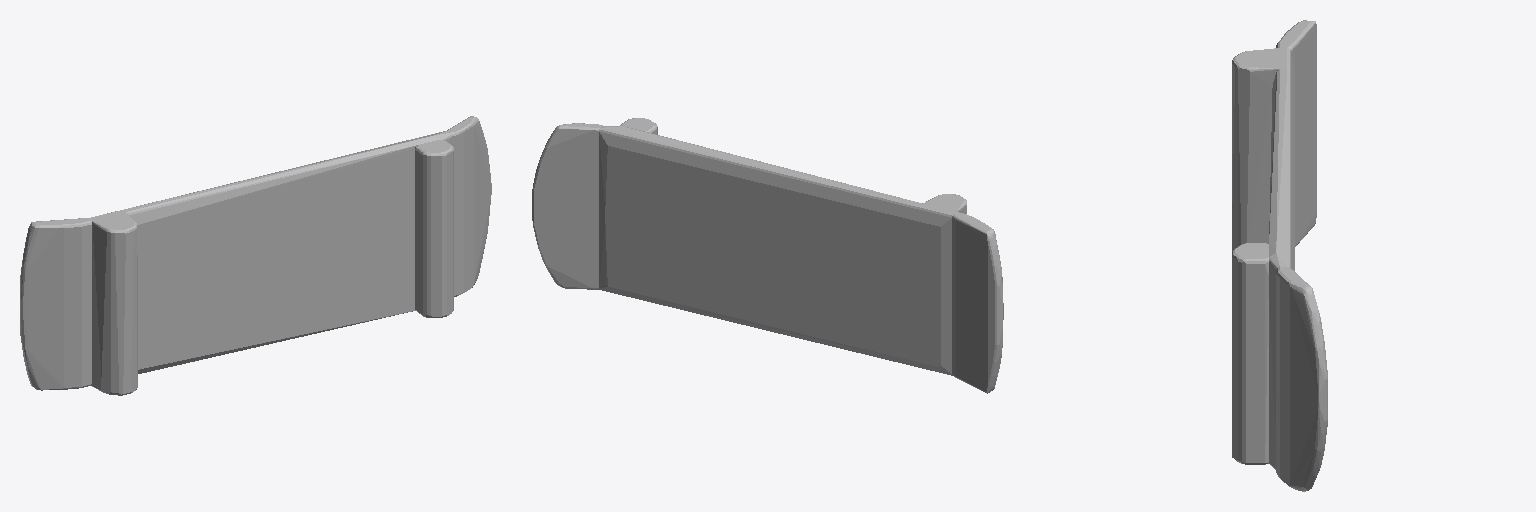
The robot description file, URDF, robot "root":
<robot name="root">
  <link name="link_coacd_convex_piece_0">
    <inertial>
      <origin xyz="0 0 0" rpy="0 0 0"/>
      <inertia ixx="1.07E-03" ixy="-7.72E-06" ixz="-1.21E-05" iyy="4.78E-03" iyz="-1.19E-06" izz="5.83E-03"/>
    </inertial>
    <visual>
      <origin xyz="0 0 0" rpy="0 0 0"/>
      <geometry>
        <mesh filename="coacd_convex_piece_0.obj" scale="1.0000E+00 1.0000E+00 1.0000E+00"/>
      </geometry>
      <material name="">
        <color rgba="7.50E-01 7.50E-01 7.50E-01 1"/>
      </material>
    </visual>
    <collision>
      <origin xyz="0 0 0" rpy="0 0 0"/>
      <geometry>
        <mesh filename="coacd_convex_piece_0.obj" scale="1.0000E+00 1.0000E+00 1.0000E+00"/>
      </geometry>
    </collision>
  </link>
  <link name="link_coacd_convex_piece_1">
    <inertial>
      <origin xyz="0 0 0" rpy="0 0 0"/>
      <inertia ixx="1.24E-04" ixy="-1.06E-05" ixz="-1.66E-04" iyy="2.53E-03" iyz="-3.47E-07" izz="2.62E-03"/>
    </inertial>
    <visual>
      <origin xyz="0 0 0" rpy="0 0 0"/>
      <geometry>
        <mesh filename="coacd_convex_piece_1.obj" scale="1.0000E+00 1.0000E+00 1.0000E+00"/>
      </geometry>
      <material name="">
        <color rgba="7.50E-01 7.50E-01 7.50E-01 1"/>
      </material>
    </visual>
    <collision>
      <origin xyz="0 0 0" rpy="0 0 0"/>
      <geometry>
        <mesh filename="coacd_convex_piece_1.obj" scale="1.0000E+00 1.0000E+00 1.0000E+00"/>
      </geometry>
    </collision>
  </link>
  <joint name="link_coacd_convex_piece_1_joint" type="fixed">
    <origin xyz="0 0 0" rpy="0 0 0"/>
    <parent link="link_coacd_convex_piece_0"/>
    <child link="link_coacd_convex_piece_1"/>
  </joint>
  <link name="link_coacd_convex_piece_2">
    <inertial>
      <origin xyz="0 0 0" rpy="0 0 0"/>
      <inertia ixx="1.57E-04" ixy="1.67E-05" ixz="1.74E-04" iyy="3.14E-03" iyz="-6.96E-07" izz="3.28E-03"/>
    </inertial>
    <visual>
      <origin xyz="0 0 0" rpy="0 0 0"/>
      <geometry>
        <mesh filename="coacd_convex_piece_2.obj" scale="1.0000E+00 1.0000E+00 1.0000E+00"/>
      </geometry>
      <material name="">
        <color rgba="7.50E-01 7.50E-01 7.50E-01 1"/>
      </material>
    </visual>
    <collision>
      <origin xyz="0 0 0" rpy="0 0 0"/>
      <geometry>
        <mesh filename="coacd_convex_piece_2.obj" scale="1.0000E+00 1.0000E+00 1.0000E+00"/>
      </geometry>
    </collision>
  </link>
  <joint name="link_coacd_convex_piece_2_joint" type="fixed">
    <origin xyz="0 0 0" rpy="0 0 0"/>
    <parent link="link_coacd_convex_piece_1"/>
    <child link="link_coacd_convex_piece_2"/>
  </joint>
  <link name="link_coacd_convex_piece_3">
    <inertial>
      <origin xyz="0 0 0" rpy="0 0 0"/>
      <inertia ixx="2.98E-04" ixy="3.69E-05" ixz="-2.14E-04" iyy="3.43E-03" iyz="3.01E-06" izz="3.67E-03"/>
    </inertial>
    <visual>
      <origin xyz="0 0 0" rpy="0 0 0"/>
      <geometry>
        <mesh filename="coacd_convex_piece_3.obj" scale="1.0000E+00 1.0000E+00 1.0000E+00"/>
      </geometry>
      <material name="">
        <color rgba="7.50E-01 7.50E-01 7.50E-01 1"/>
      </material>
    </visual>
    <collision>
      <origin xyz="0 0 0" rpy="0 0 0"/>
      <geometry>
        <mesh filename="coacd_convex_piece_3.obj" scale="1.0000E+00 1.0000E+00 1.0000E+00"/>
      </geometry>
    </collision>
  </link>
  <joint name="link_coacd_convex_piece_3_joint" type="fixed">
    <origin xyz="0 0 0" rpy="0 0 0"/>
    <parent link="link_coacd_convex_piece_2"/>
    <child link="link_coacd_convex_piece_3"/>
  </joint>
  <link name="link_coacd_convex_piece_4">
    <inertial>
      <origin xyz="0 0 0" rpy="0 0 0"/>
      <inertia ixx="1.70E-04" ixy="-1.38E-05" ixz="2.05E-04" iyy="1.69E-03" iyz="1.83E-06" izz="1.80E-03"/>
    </inertial>
    <visual>
      <origin xyz="0 0 0" rpy="0 0 0"/>
      <geometry>
        <mesh filename="coacd_convex_piece_4.obj" scale="1.0000E+00 1.0000E+00 1.0000E+00"/>
      </geometry>
      <material name="">
        <color rgba="7.50E-01 7.50E-01 7.50E-01 1"/>
      </material>
    </visual>
    <collision>
      <origin xyz="0 0 0" rpy="0 0 0"/>
      <geometry>
        <mesh filename="coacd_convex_piece_4.obj" scale="1.0000E+00 1.0000E+00 1.0000E+00"/>
      </geometry>
    </collision>
  </link>
  <joint name="link_coacd_convex_piece_4_joint" type="fixed">
    <origin xyz="0 0 0" rpy="0 0 0"/>
    <parent link="link_coacd_convex_piece_3"/>
    <child link="link_coacd_convex_piece_4"/>
  </joint>
</robot>

--- What the picture shows (computed from the rendered views, not written in the file) ---
The picture shows the robot from 3 angles, left to right: view 1: azimuth 30°, elevation 25°; view 2: azimuth 150°, elevation 25°; view 3: azimuth 270°, elevation 25°; orthographic projection.
Model root with 5 links and 4 joints (4 fixed), rooted at link_coacd_convex_piece_0, posed every joint at zero.
Links seen in each view (by area): view 1: link_coacd_convex_piece_0, link_coacd_convex_piece_2, link_coacd_convex_piece_3, link_coacd_convex_piece_4, link_coacd_convex_piece_1; view 2: link_coacd_convex_piece_0, link_coacd_convex_piece_1, link_coacd_convex_piece_2, link_coacd_convex_piece_3; view 3: link_coacd_convex_piece_1, link_coacd_convex_piece_4, link_coacd_convex_piece_3, link_coacd_convex_piece_0, link_coacd_convex_piece_2.
Boxes of the visible links, left/top/right/bottom form: link_coacd_convex_piece_0: left=123, top=131, right=451, bottom=373; link_coacd_convex_piece_2: left=20, top=218, right=91, bottom=390; link_coacd_convex_piece_3: left=88, top=210, right=137, bottom=395; link_coacd_convex_piece_4: left=415, top=140, right=453, bottom=317; link_coacd_convex_piece_1: left=447, top=116, right=491, bottom=296; link_coacd_convex_piece_0: left=599, top=126, right=922, bottom=367; link_coacd_convex_piece_1: left=532, top=123, right=602, bottom=289; link_coacd_convex_piece_2: left=952, top=212, right=1003, bottom=393; link_coacd_convex_piece_3: left=917, top=194, right=966, bottom=375; link_coacd_convex_piece_1: left=1276, top=267, right=1327, bottom=491; link_coacd_convex_piece_4: left=1232, top=243, right=1268, bottom=464; link_coacd_convex_piece_3: left=1232, top=48, right=1294, bottom=251; link_coacd_convex_piece_0: left=1269, top=69, right=1294, bottom=469; link_coacd_convex_piece_2: left=1276, top=20, right=1316, bottom=246.
Size in the robot's own frame: 1.93 by 0.2741 by 0.6535 metres.
5 mesh visuals loaded from 5 distinct referenced files (5 OBJ).
